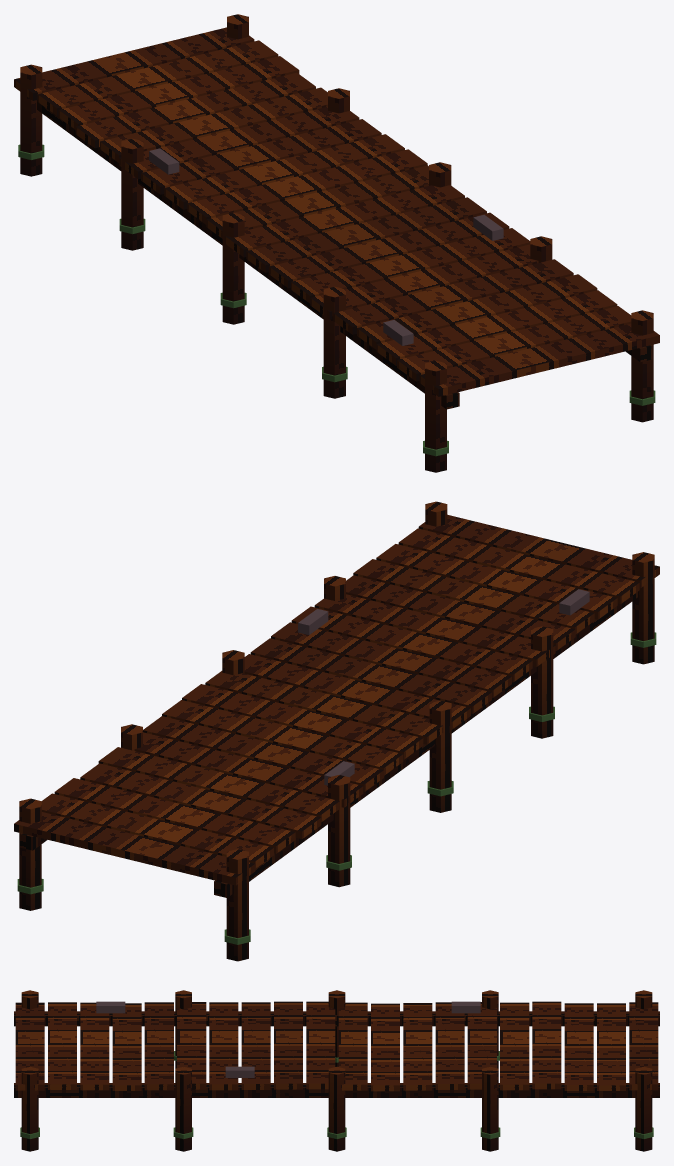
Rendered from pier.glb.
3 renders of one model, top to bottom at view 1: azimuth 30°, elevation 25°; view 2: azimuth 150°, elevation 25°; view 3: azimuth 270°, elevation 25°, orthographic. The views are drawn at different scales.
Parts seen in each view (by area): view 1: pier; view 2: pier; view 3: pier.
Boxes of the visible parts, x1,y1,x2,y2 form: pier: (14, 14, 659, 472); pier: (14, 501, 659, 961); pier: (14, 990, 659, 1151).
Size of the model in its own units: 2.52 by 1.05 by 8.
2 materials, 1 textured.
